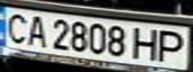0: (87, 20, 109, 55)
2: (45, 16, 72, 52)
8: (106, 22, 130, 58), (66, 18, 90, 53)
A: (21, 12, 48, 47)
C: (0, 10, 33, 45)
H: (130, 25, 163, 61)
P: (154, 28, 190, 63)
